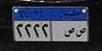2: (32, 23, 41, 39), (15, 23, 24, 38), (41, 23, 49, 38), (24, 23, 32, 38)
saad: (75, 27, 87, 39), (64, 27, 75, 38)
